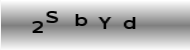2: (31, 20, 44, 34)
S: (45, 10, 60, 23)
Y: (97, 15, 112, 29)
b: (74, 12, 88, 27)
d: (123, 16, 135, 29)
